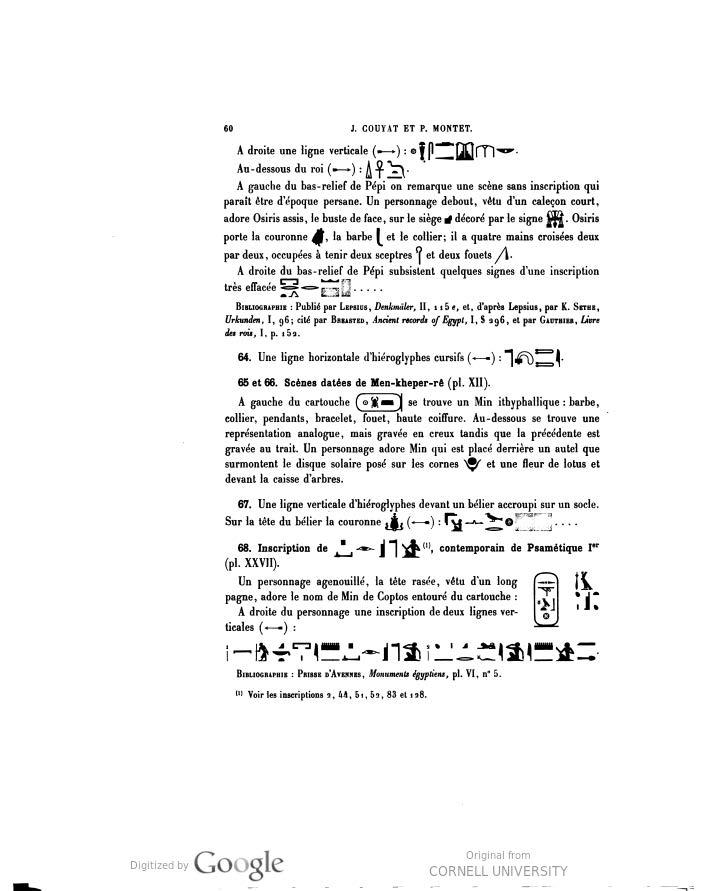circle: (528, 566, 569, 638), (344, 390, 412, 420)
